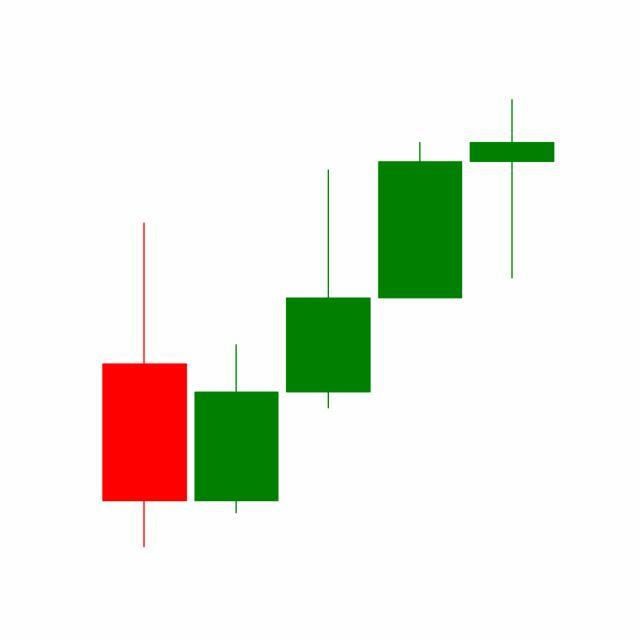Marubozu: (374, 141, 468, 301)
